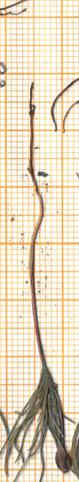flower: (1, 361, 76, 482)
root: (22, 82, 42, 176)
stem: (26, 176, 48, 361)
